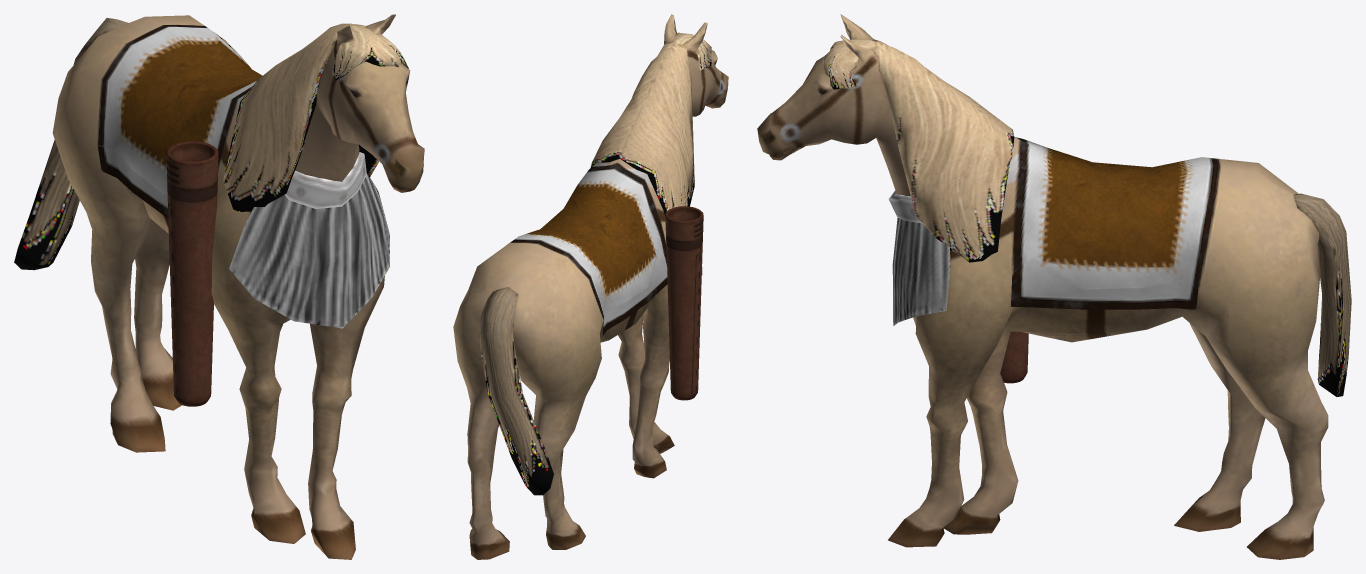
The model's file is body-base.glb.
3 renders of one model, left to right at view 1: azimuth 30°, elevation 25°; view 2: azimuth 150°, elevation 25°; view 3: azimuth 270°, elevation 25°, orthographic. The views are drawn at different scales.
Size of the model in its own units: 0.9085 by 2.5 by 2.63.
2 materials, 2 textured.
